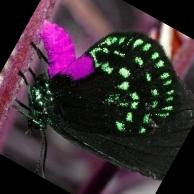butterfly: (25, 20, 194, 182)
